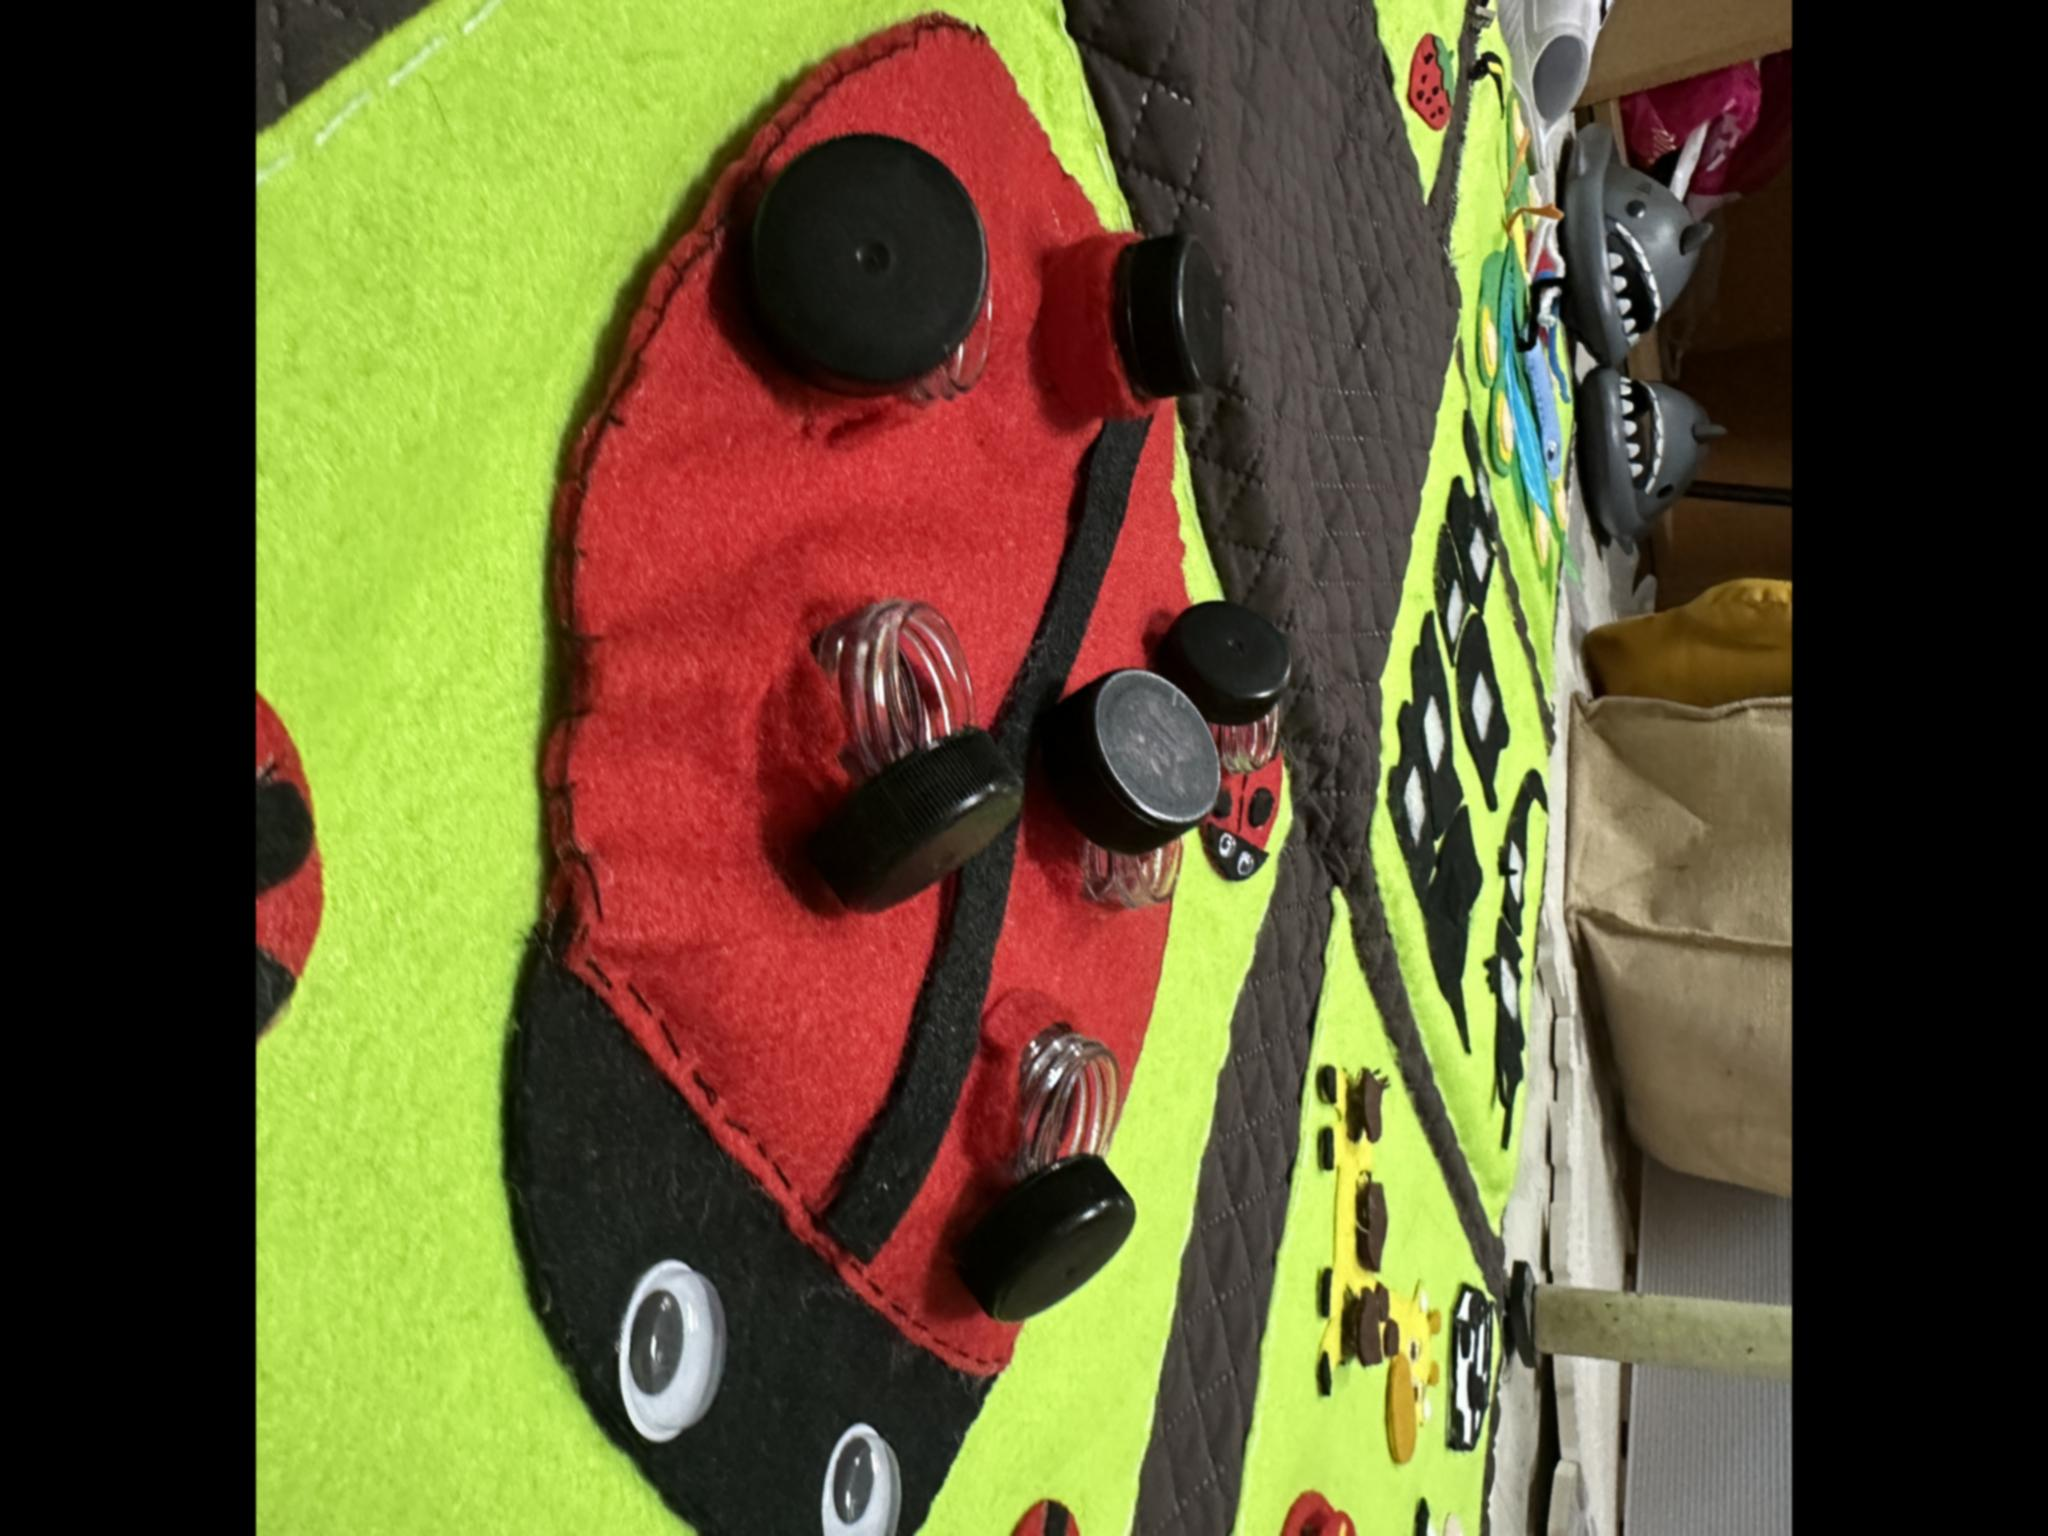cap_ng: (726, 131, 1019, 410), (780, 579, 1022, 913), (942, 984, 1143, 1320), (1047, 662, 1227, 915), (1150, 591, 1305, 786)
cap_ok: (1040, 213, 1240, 426)
